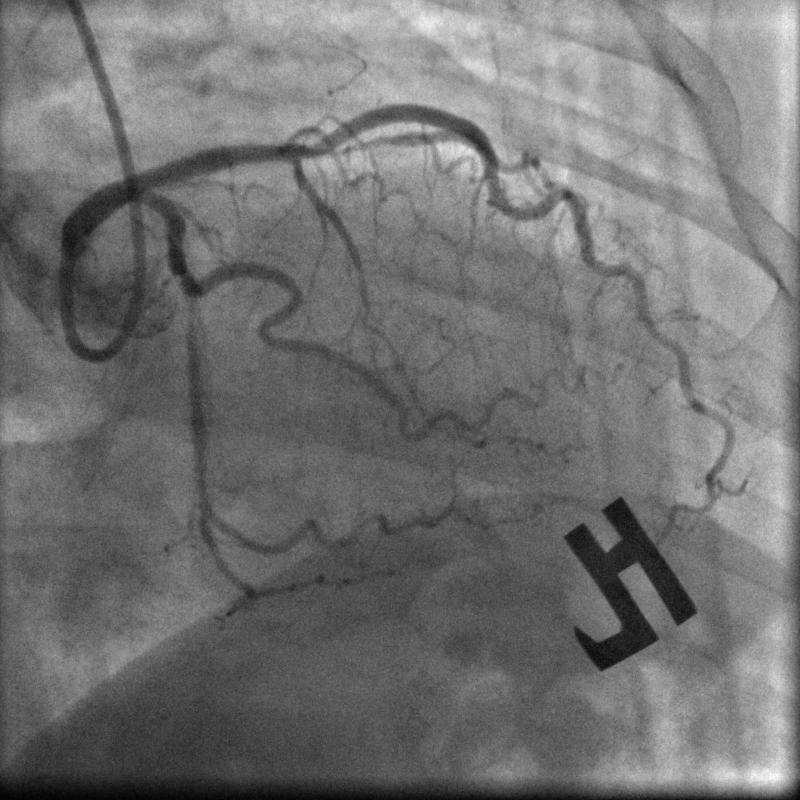Stenosis: (167, 223, 205, 283)
